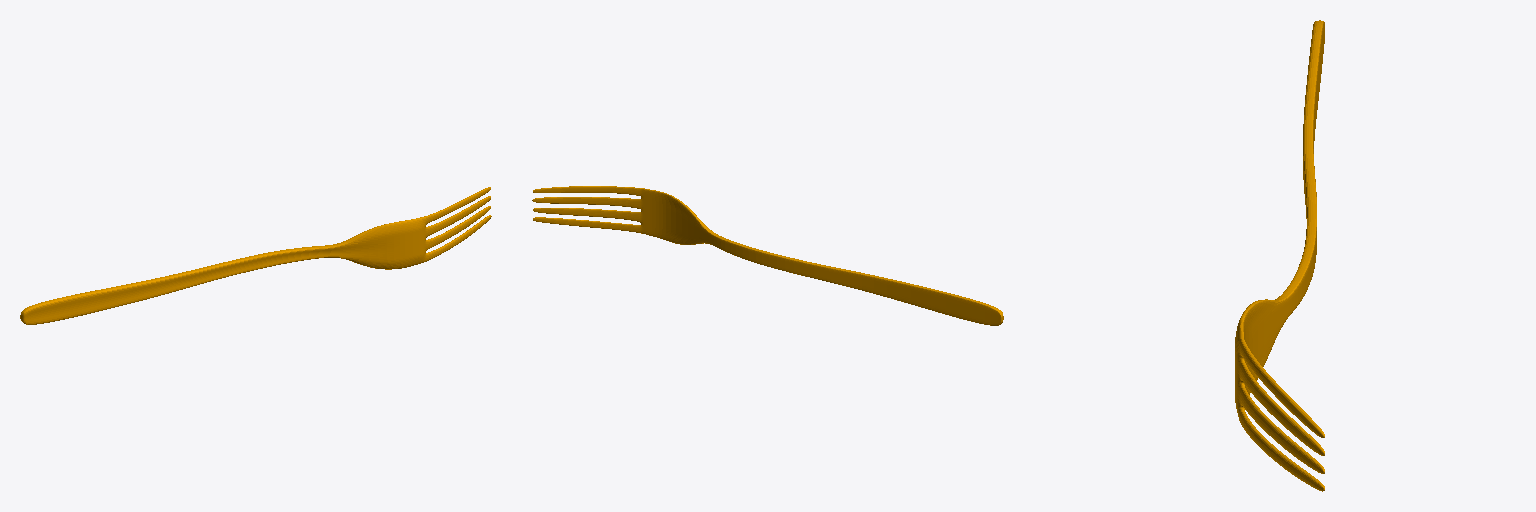
robot.urdf — apple:
<?xml version="0.0" ?>
<robot name="apple">
  <link name="baseLink">
    <contact>
      <lateral_friction value="1.0"/>
      <rolling_friction value="0.0"/>
      <contact_cfm value="0.0"/>
      <contact_erp value="1.0"/>
    </contact>
    <inertial>
      <origin rpy="0 0 0" xyz="0.0 0.02 0.0"/>
       <mass value=".1"/>
       <inertia ixx="1" ixy="0" ixz="0" iyy="1" iyz="0" izz="1"/>
    </inertial>
    <visual>
      <origin rpy="0 0 0" xyz="0 0 0"/>
      <geometry>
        <mesh filename="meshes/notextures/fork2.obj" />
      </geometry>

    </visual>
    <collision>
      <origin rpy="0 0 0" xyz="0 0 0"/>
      <geometry>
	 	<mesh filename="meshes/notextures/fork2.obj"/>
      </geometry>
    </collision>
  </link>
</robot>

--- What the picture shows (computed from the rendered views, not written in the file) ---
The picture shows the robot from 3 angles, left to right: view 1: azimuth 30°, elevation 25°; view 2: azimuth 150°, elevation 25°; view 3: azimuth 270°, elevation 25°; orthographic projection.
Robot: apple — 1 links, 0 joints (none); root link baseLink; default pose: every joint at zero.
Visible links, largest first — view 1: baseLink; view 2: baseLink; view 3: baseLink.
Boxes of the visible links, x1=… form: baseLink: x1=20, y1=187, x2=491, y2=324; baseLink: x1=532, y1=186, x2=1003, y2=325; baseLink: x1=1235, y1=20, x2=1324, y2=491.
Size in the robot's own frame: 0.1997 by 0.0176 by 0.0191 metres.
Meshes: 1 distinct files referenced, 1 mesh visuals loaded (1 OBJ).